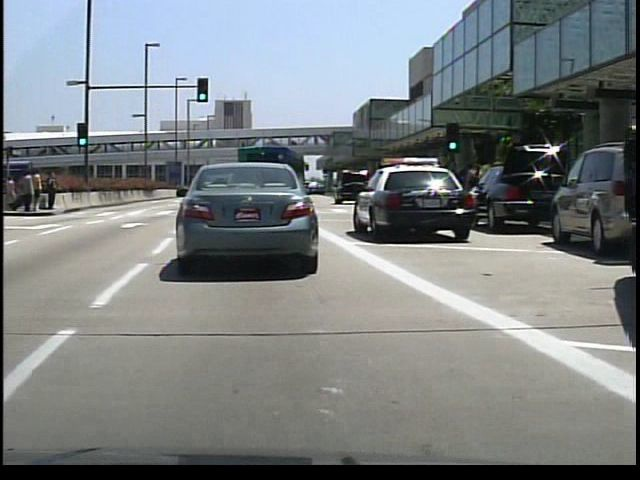person: (18, 169, 35, 214), (42, 168, 57, 212), (31, 166, 42, 213)
